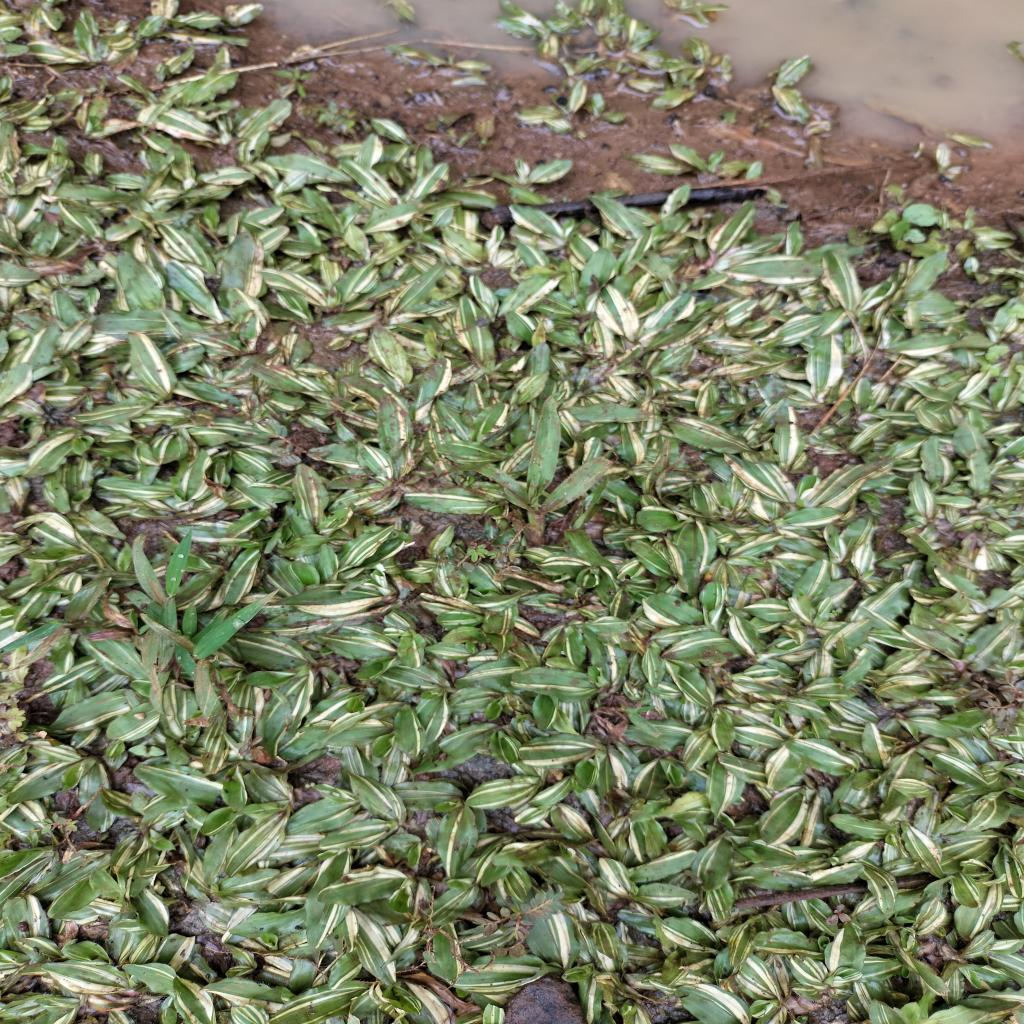buah daun: (469, 884, 572, 947), (974, 665, 1024, 736), (32, 812, 84, 837)
rambat atas: (128, 524, 282, 708), (600, 702, 664, 741)
rambat bawah: (500, 391, 620, 549)
